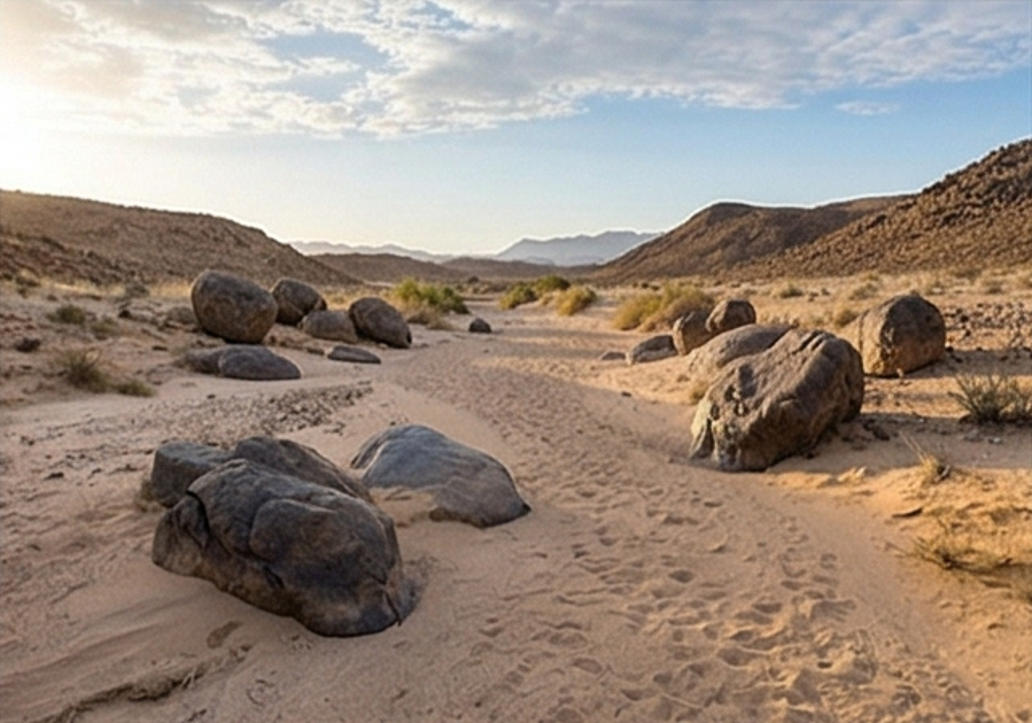rocks: (149, 424, 529, 634), (671, 295, 945, 470), (187, 271, 411, 380)
